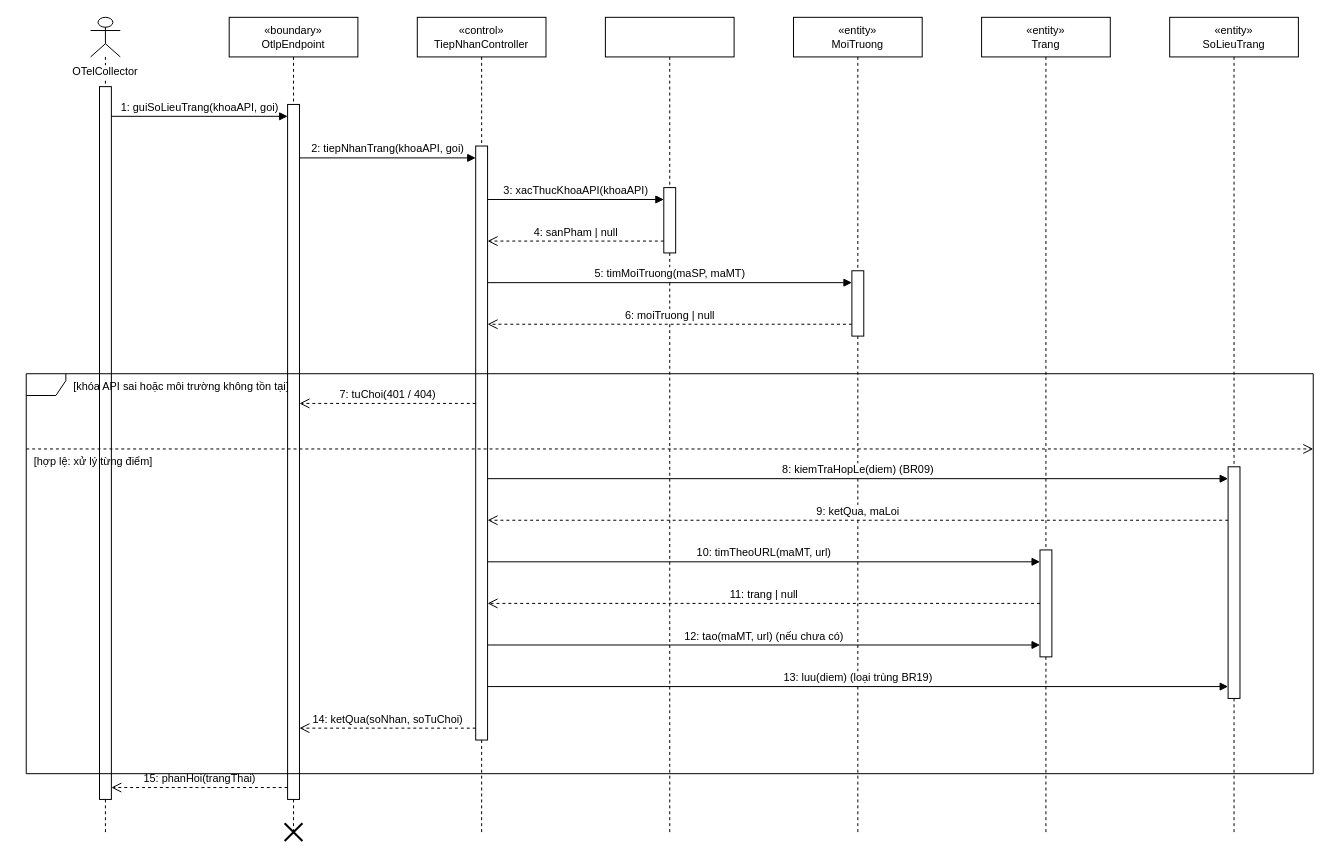
The diagram is 1340 pixels wide and 859 high, and some of its shapes have lost their labels. Each missing label, with the box of its shape:
alt: (25, 373, 1313, 774)
«entity» SanPham: (604, 16, 734, 832)
